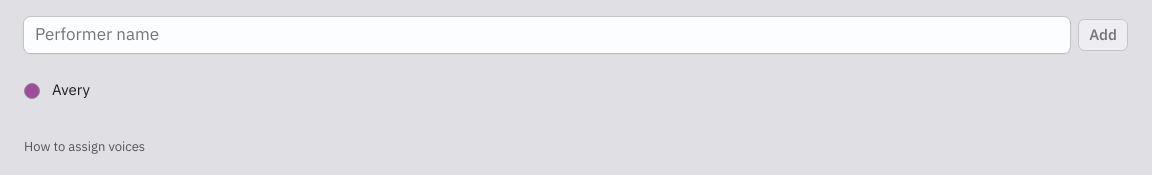
Test case: PerformersPanel › the name is the rename control, and it is the only one
The width and height of the screenshot is (1152, 175).
Click the button "Avery" at (71, 90), box [52, 79, 1092, 102]
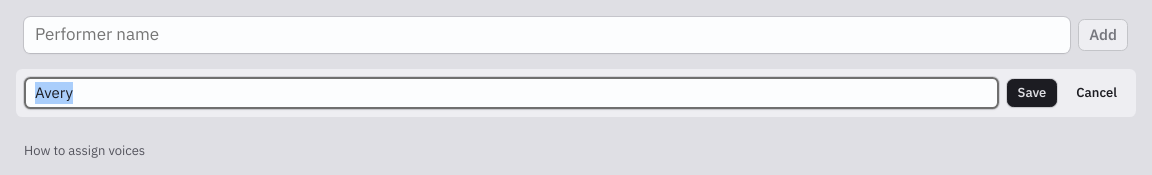
Expected: the field named "Performer name" holds "Avery", [24, 76, 998, 109]
